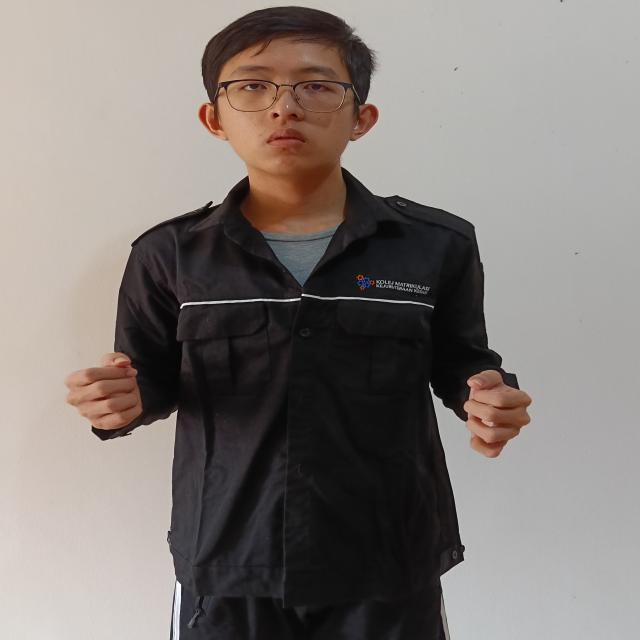person_with_labcoat: (65, 7, 530, 640)
